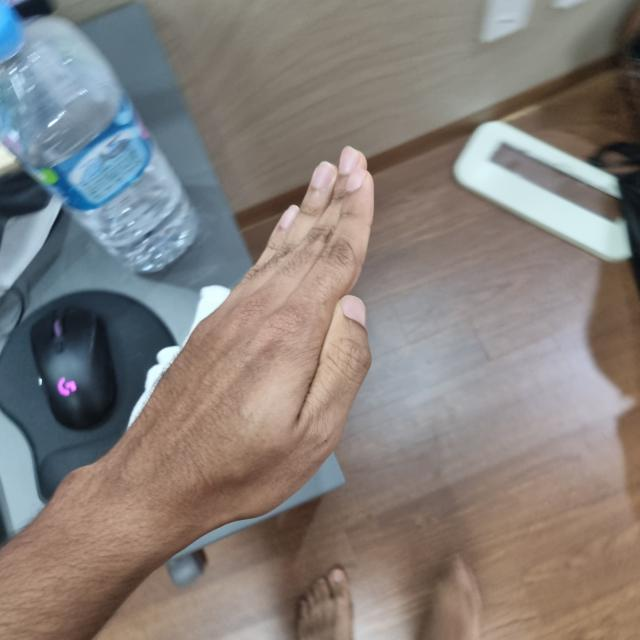Paper: (114, 151, 377, 523)
